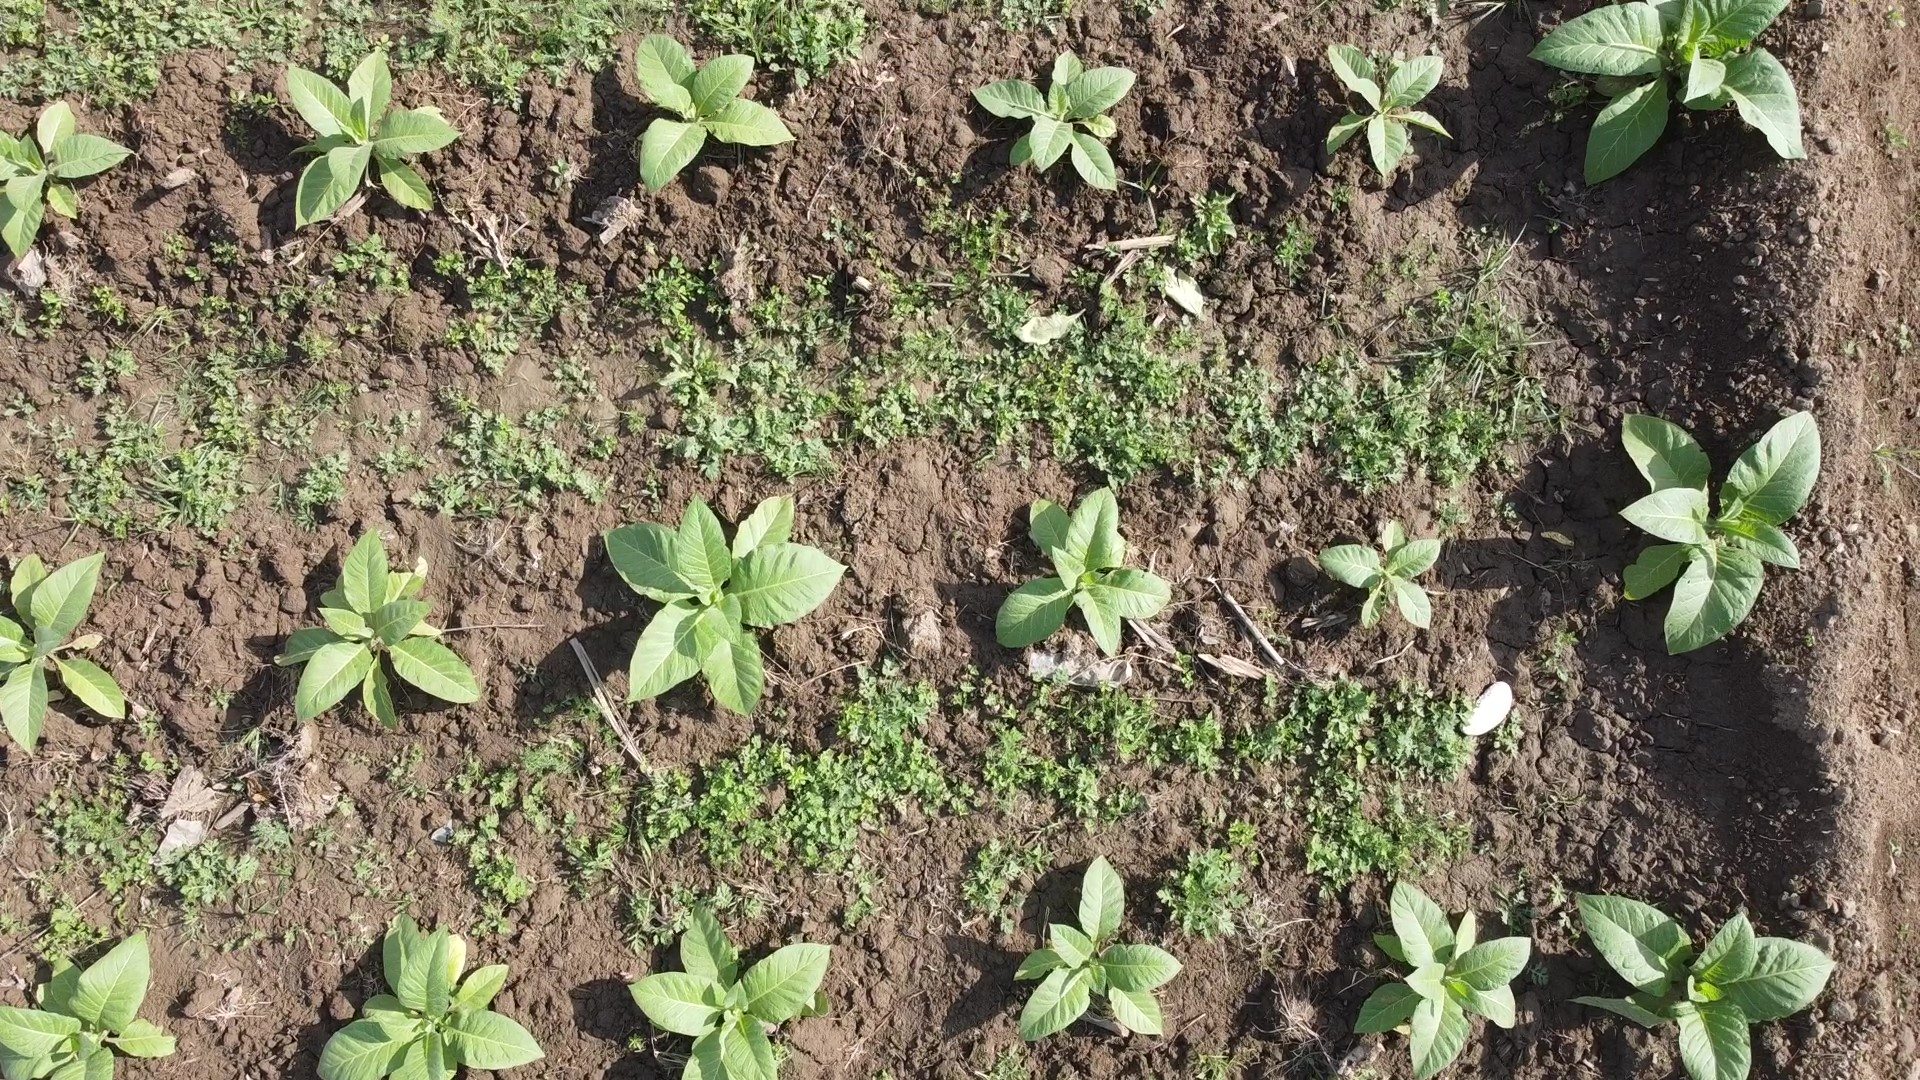weed: (604, 491, 852, 718), (1524, 10, 1810, 188), (1565, 893, 1838, 1079), (1617, 410, 1821, 656), (274, 526, 482, 731), (316, 912, 546, 1078), (626, 905, 832, 1080), (1353, 880, 1532, 1079), (1012, 853, 1185, 1042), (286, 50, 463, 230), (996, 485, 1173, 659), (0, 929, 178, 1080), (633, 33, 797, 195), (0, 550, 125, 756), (970, 48, 1137, 192), (0, 100, 135, 261), (1325, 41, 1455, 179), (1318, 520, 1441, 631)
